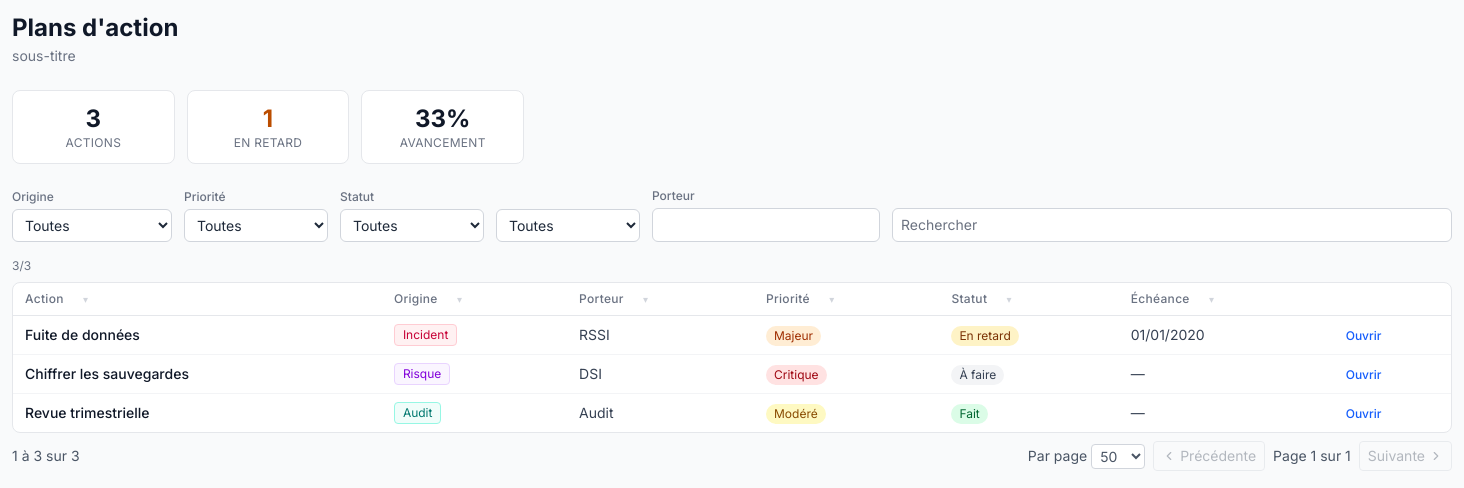
it: PlansActionsView › filtre par statut effectif EN_RETARD
Select "En retard" in the dropdown labelled "Statut": (412, 226) [340,209,484,242]
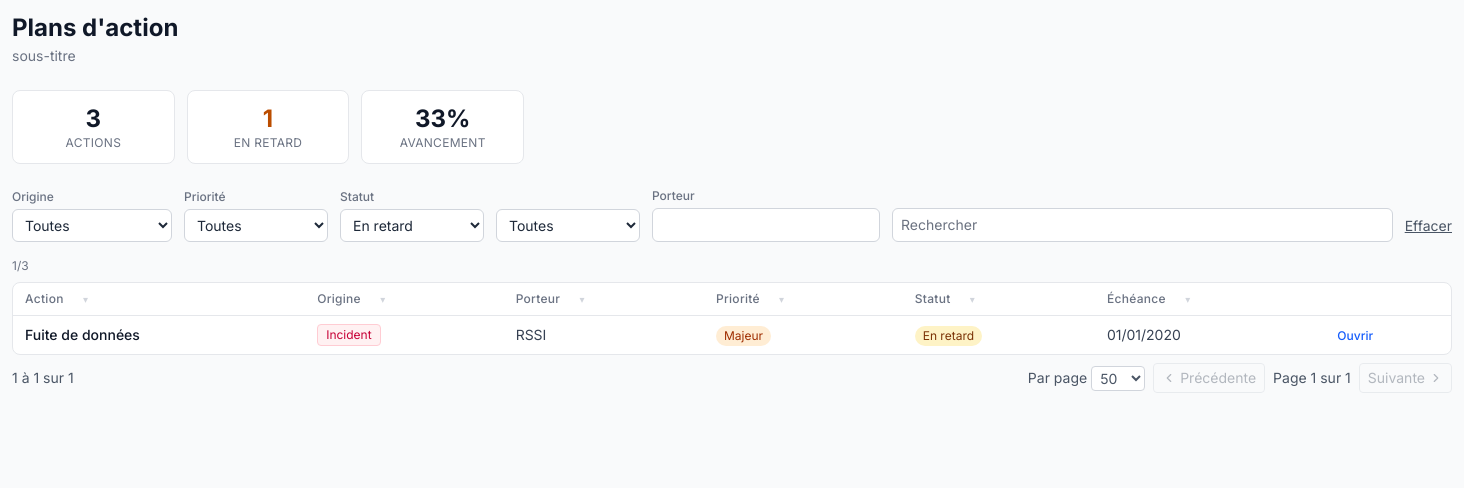
Expected: the text "Chiffrer les sauvegardes" is not shown
Expected: the text "Fuite de données" is shown 2 times
